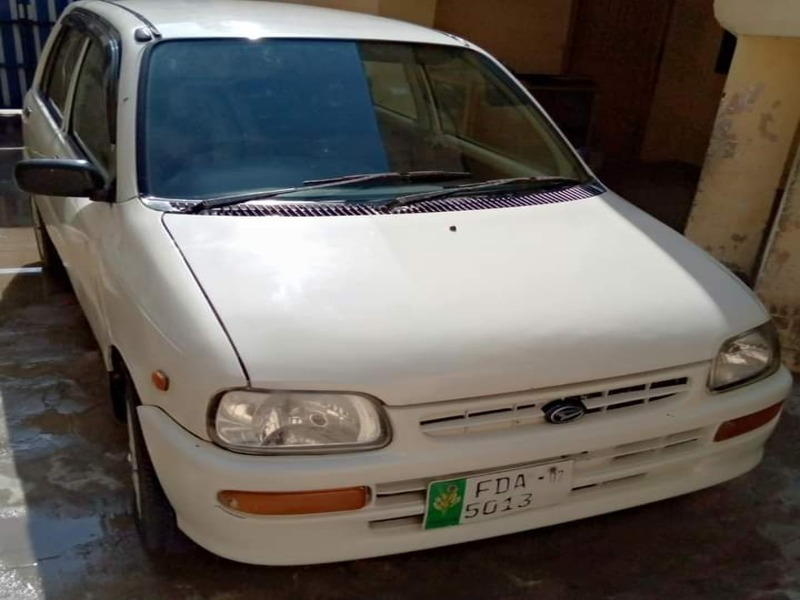License Plate: (422, 461, 578, 531)
